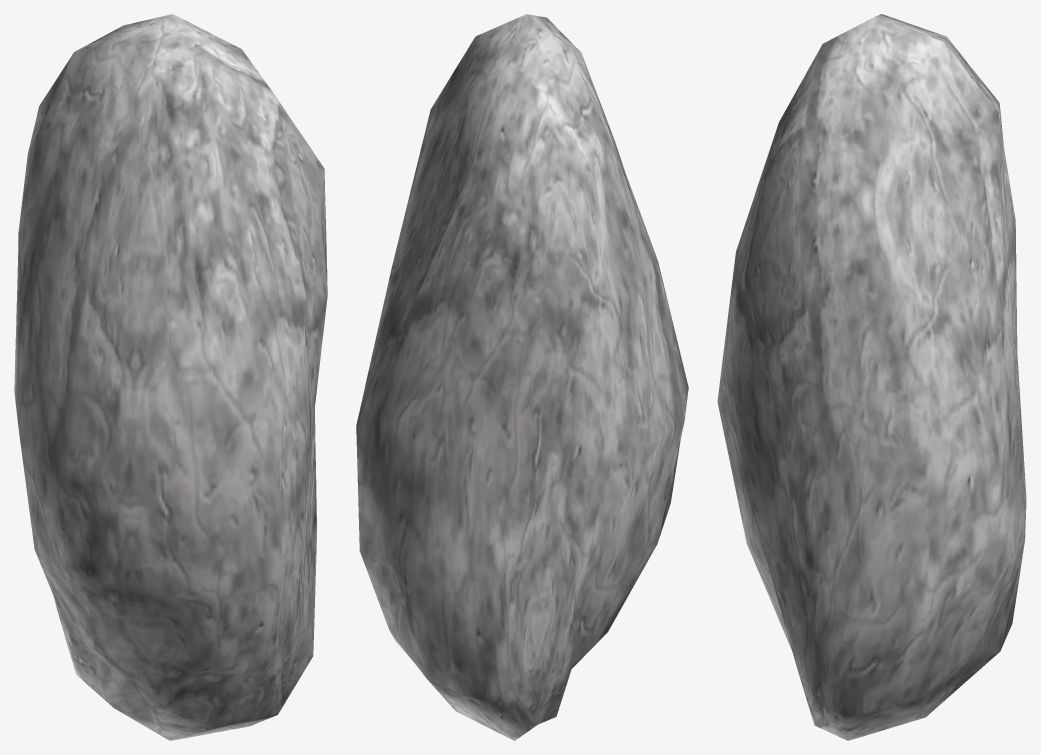
Rendered from INST_SWORDLIGHT_ROCKB.fbx.
3 views of the same model, side by side, from view 1: azimuth 30°, elevation 25°; view 2: azimuth 150°, elevation 25°; view 3: azimuth 270°, elevation 25° (orthographic). The views are drawn at different scales.
Visible parts, largest first — view 1: INST_SWORDLIGHT_ROCKB; view 2: INST_SWORDLIGHT_ROCKB; view 3: INST_SWORDLIGHT_ROCKB.
Boxes of the visible parts, left/top/right/bottom form: INST_SWORDLIGHT_ROCKB: left=14, top=14, right=327, bottom=740; INST_SWORDLIGHT_ROCKB: left=356, top=14, right=688, bottom=740; INST_SWORDLIGHT_ROCKB: left=717, top=14, right=1026, bottom=740.
Size of the model in its own units: 20412 by 50960 by 20412.
Materials: 1 (1 with a texture image).
